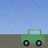vehicle: (21, 30, 44, 46)
